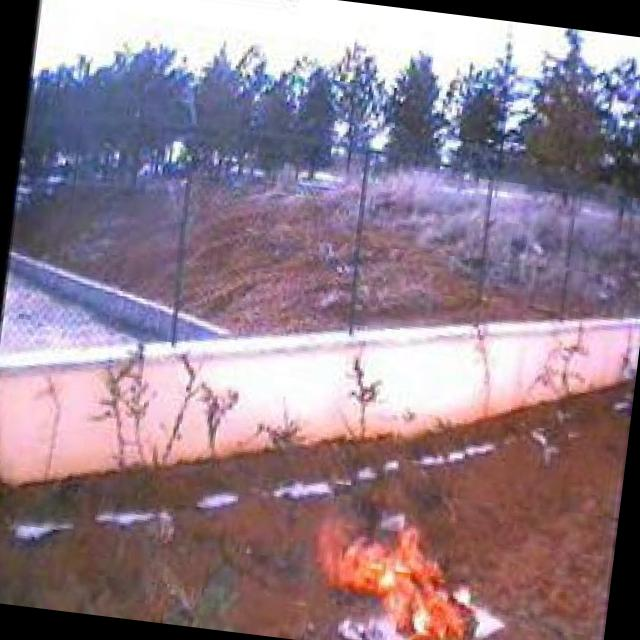Fire: (298, 498, 501, 640)
